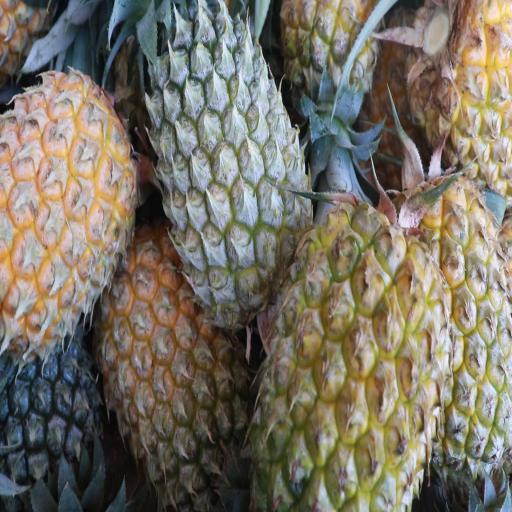------------------------------: (278, 0, 378, 188)
Pineapple - v8 v1: (253, 207, 448, 512), (97, 251, 251, 504), (0, 74, 141, 338), (385, 180, 512, 468), (400, 0, 511, 178)
